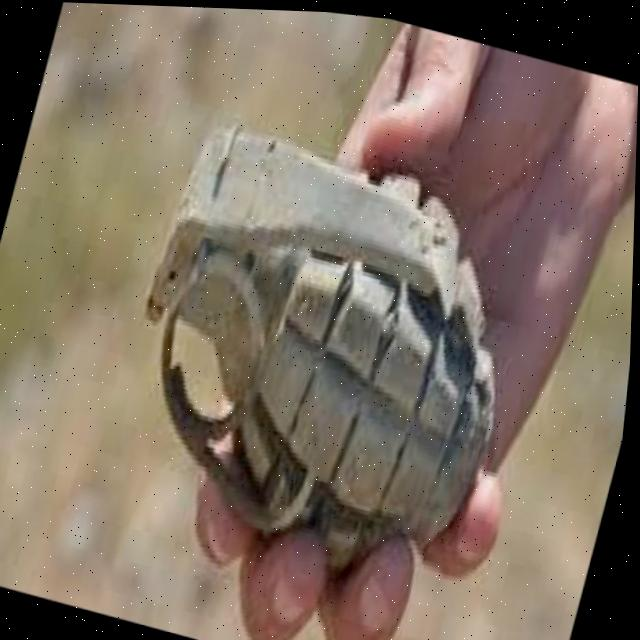grenade: (86, 94, 558, 597)
